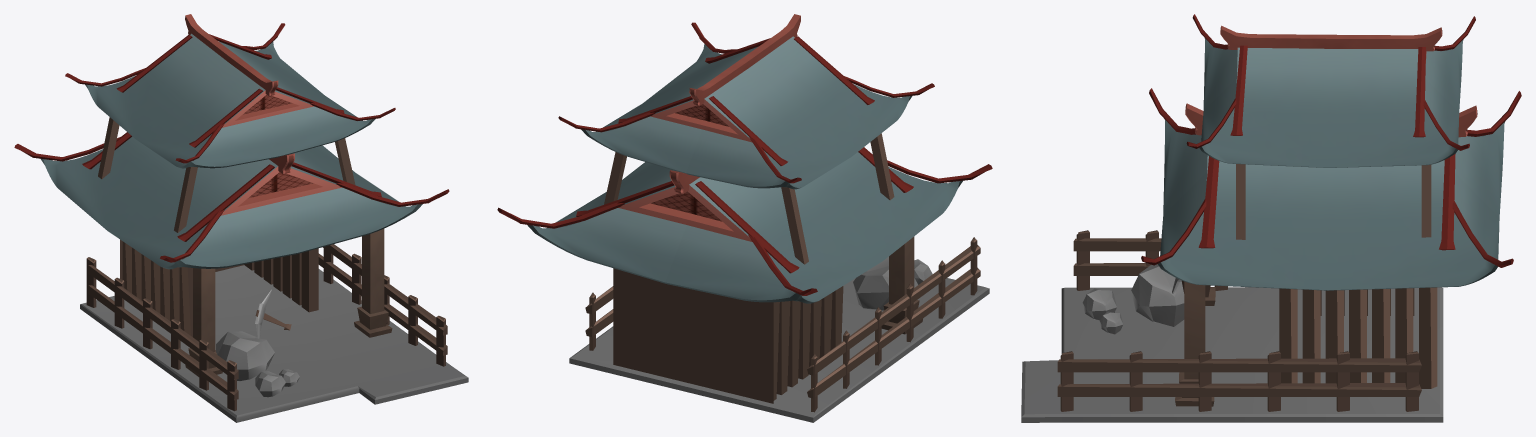
File: mine_3lvl.fbx
The picture shows the model from 3 angles, left to right: view 1: azimuth 30°, elevation 25°; view 2: azimuth 150°, elevation 25°; view 3: azimuth 270°, elevation 25°; orthographic projection. The views are drawn at different scales.
Visible parts, largest first — view 1: mine_3lvl; view 2: mine_3lvl; view 3: mine_3lvl.
Part boxes in pixels (x1,y1,x2,y2): mine_3lvl: [14, 14, 468, 422]; mine_3lvl: [497, 14, 992, 422]; mine_3lvl: [1021, 14, 1521, 422].
Size of the model in its own units: 5.36 by 4.73 by 6.52.
